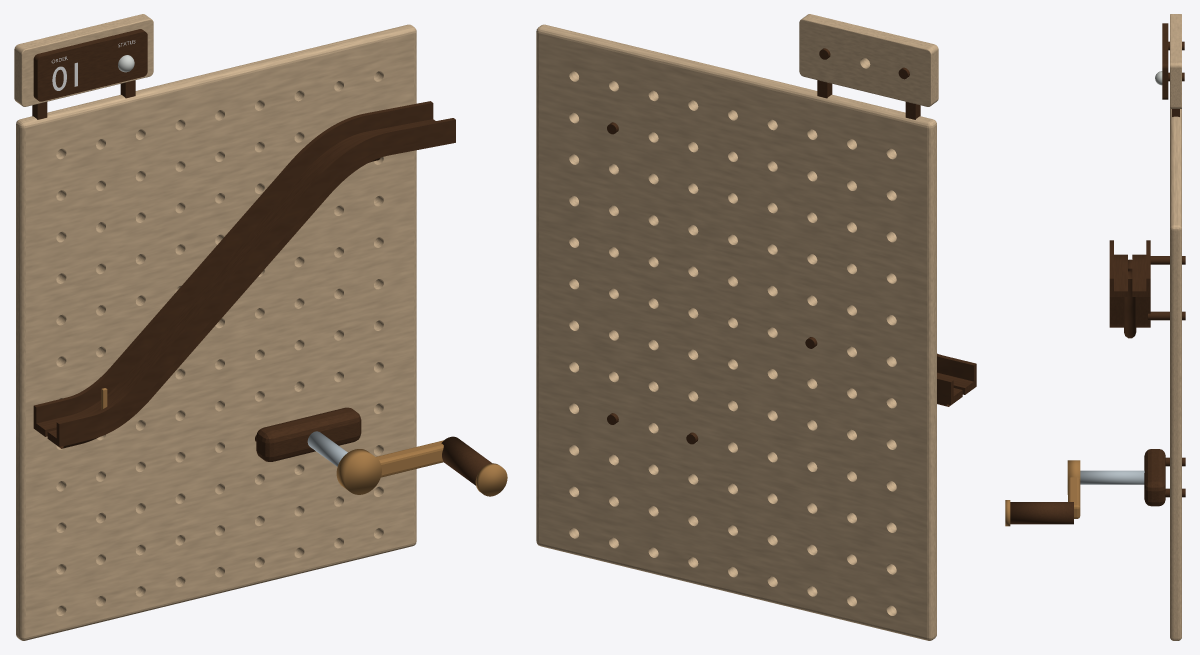
Rendered from steep.glb.
The picture shows the model from 3 angles, left to right: view 1: azimuth 30°, elevation 25°; view 2: azimuth 150°, elevation 25°; view 3: azimuth 270°, elevation 25°; orthographic projection. The views are drawn at different scales.
Parts seen in each view (by area): view 1: BOARD | one fixed track, aligned ports, TRACK | wall -1, TRACK | wall 1, BADGE | walnut label, TRACK | floor 1, TRACK | floor -1, BADGE | perforated ash backing, MOUNT | crank integral wooden hub, MECHANISM | crank hub, DRIVEN | crank arm, DRIVEN | wooden grip, DRIVEN | grip safety lip (+1 smaller); view 2: BOARD | one fixed track, aligned ports, BADGE | perforated ash backing, TRACK | wall -1; view 3: BOARD | one fixed track, aligned ports, DRIVEN | wooden grip, MOUNT | crank integral wooden hub, BADGE | perforated ash backing, TRACK | floor 1, TRACK | floor -1, MECHANISM | crank axle, MECHANISM | single concealed guide, BADGE | walnut label, DRIVEN | crank arm, MECHANISM | crank hub.
Boxes of the visible parts, left/top/right/bottom form: BOARD | one fixed track, aligned ports: left=16, top=24, right=416, bottom=640; TRACK | wall -1: left=56, top=118, right=455, bottom=440; TRACK | wall 1: left=33, top=101, right=433, bottom=423; BADGE | walnut label: left=33, top=29, right=147, bottom=101; TRACK | floor 1: left=33, top=119, right=435, bottom=436; TRACK | floor -1: left=47, top=136, right=455, bottom=447; BADGE | perforated ash backing: left=14, top=14, right=153, bottom=106; MOUNT | crank integral wooden hub: left=256, top=407, right=361, bottom=461; MECHANISM | crank hub: left=336, top=449, right=381, bottom=494; DRIVEN | crank arm: left=376, top=440, right=443, bottom=477; DRIVEN | wooden grip: left=441, top=436, right=492, bottom=485; DRIVEN | grip safety lip: left=475, top=463, right=507, bottom=496; BOARD | one fixed track, aligned ports: left=536, top=24, right=936, bottom=640; BADGE | perforated ash backing: left=799, top=14, right=938, bottom=106; TRACK | wall -1: left=937, top=353, right=976, bottom=381; BOARD | one fixed track, aligned ports: left=1170, top=109, right=1181, bottom=640; DRIVEN | wooden grip: left=1010, top=502, right=1073, bottom=524; MOUNT | crank integral wooden hub: left=1144, top=449, right=1165, bottom=506; BADGE | perforated ash backing: left=1170, top=14, right=1181, bottom=108; TRACK | floor 1: left=1132, top=254, right=1150, bottom=327; TRACK | floor -1: left=1109, top=254, right=1127, bottom=327; MECHANISM | crank axle: left=1080, top=470, right=1144, bottom=484; MECHANISM | single concealed guide: left=1124, top=259, right=1136, bottom=338; BADGE | walnut label: left=1162, top=23, right=1168, bottom=99; DRIVEN | crank arm: left=1068, top=477, right=1080, bottom=518; MECHANISM | crank hub: left=1067, top=460, right=1080, bottom=494.
Size of the model in its own units: 0.72 by 1.03 by 0.354.
Materials: 22 (18 with a texture image).
